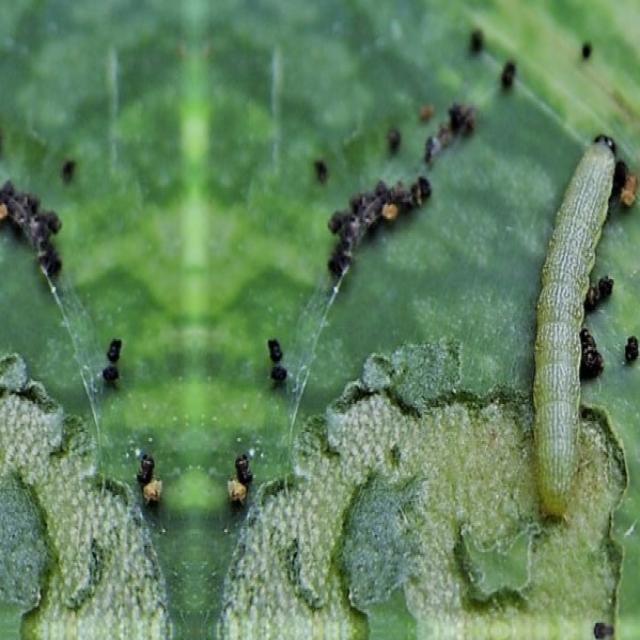armyworm: (530, 131, 618, 518)
